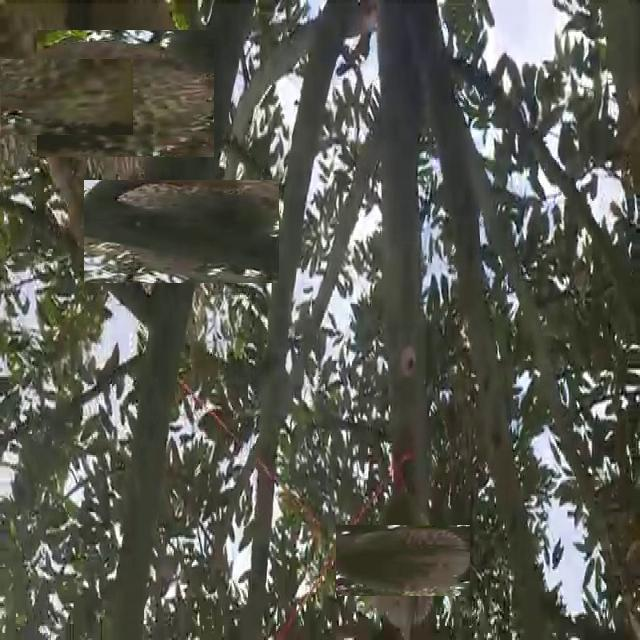durian: (49, 17, 201, 170), (107, 156, 256, 306), (0, 31, 106, 164), (352, 510, 454, 612)
